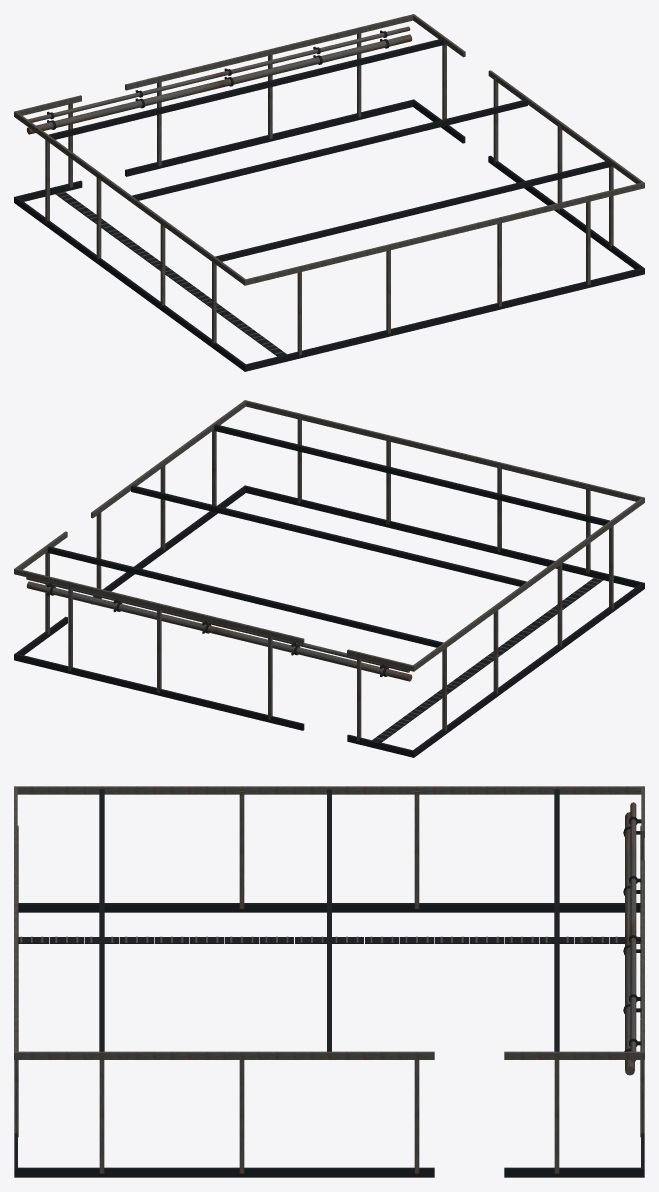
File: ServiceStructure07.obj
The picture shows the model from 3 angles, top to bottom: view 1: azimuth 30°, elevation 25°; view 2: azimuth 150°, elevation 25°; view 3: azimuth 270°, elevation 25°; orthographic projection. The views are drawn at different scales.
Parts seen in each view (by area): view 1: ServiceStructure07; view 2: ServiceStructure07; view 3: ServiceStructure07.
Boxes of the visible parts, x1,y1,x2,y2 form: ServiceStructure07: (14, 14, 644, 371); ServiceStructure07: (14, 400, 644, 757); ServiceStructure07: (14, 786, 644, 1177).
Size of the model in its own units: 18.02 by 3.93 by 18.02.
3 materials, 2 textured.
